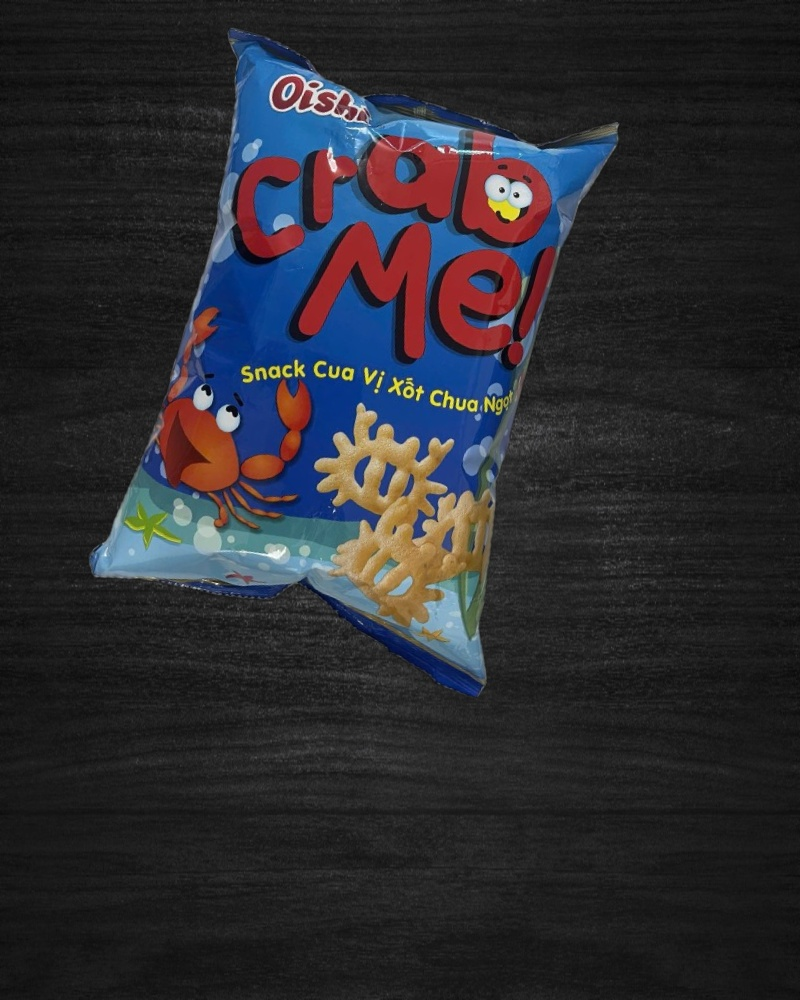Snack cua: (80, 20, 635, 694)
